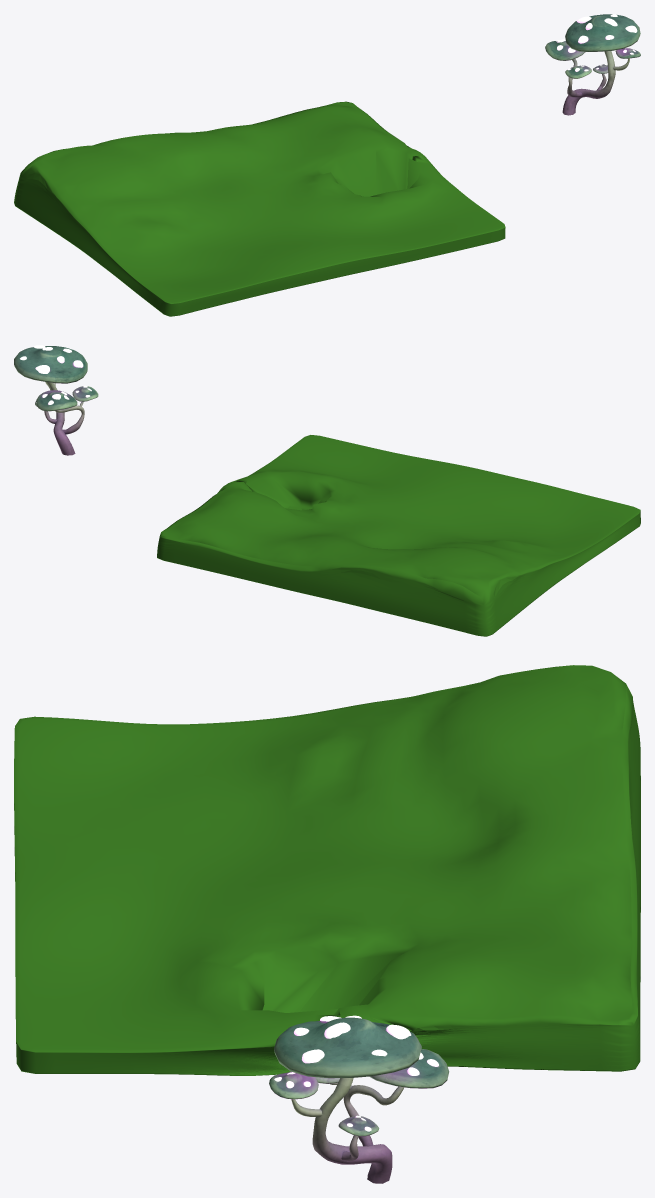
File: ground1.glb
3 renders of one model, top to bottom at view 1: azimuth 30°, elevation 25°; view 2: azimuth 150°, elevation 25°; view 3: azimuth 270°, elevation 25°, orthographic. The views are drawn at different scales.
Parts seen in each view (by area): view 1: pasted__pasted__pasted__pCube1_pasted__pasted__pasted__phong, defaultMaterial.001; view 2: pasted__pasted__pasted__pCube1_pasted__pasted__pasted__phong, defaultMaterial.001; view 3: pasted__pasted__pasted__pCube1_pasted__pasted__pasted__phong, defaultMaterial.001.
Boxes of the visible parts, <box> form: pasted__pasted__pasted__pCube1_pasted__pasted__pasted__phong: <box>14,101,505,316</box>; defaultMaterial.001: <box>545,14,640,115</box>; pasted__pasted__pasted__pCube1_pasted__pasted__pasted__phong: <box>157,435,640,636</box>; defaultMaterial.001: <box>14,345,98,455</box>; pasted__pasted__pasted__pCube1_pasted__pasted__pasted__phong: <box>14,665,640,1075</box>; defaultMaterial.001: <box>269,1015,449,1183</box>.
Bounding box in the file's own units: 32.17 × 6.84 × 16.15.
2 materials, 1 textured.
